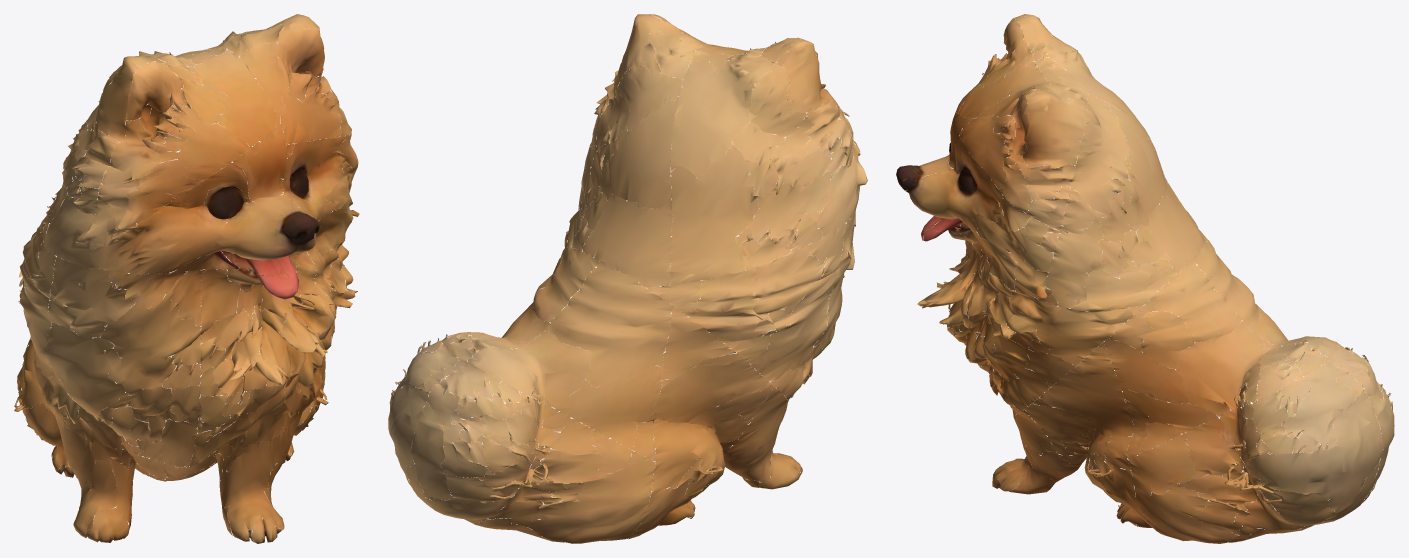
The model's file is dog.glb.
3 views of the same model, side by side, from view 1: azimuth 30°, elevation 25°; view 2: azimuth 150°, elevation 25°; view 3: azimuth 270°, elevation 25° (orthographic). The views are drawn at different scales.
Visible parts, largest first — view 1: new_pom; view 2: new_pom; view 3: new_pom.
Part boxes in pixels (bbox=[...]): new_pom: bbox=[14, 14, 359, 543]; new_pom: bbox=[388, 14, 867, 543]; new_pom: bbox=[896, 14, 1394, 543].
Bounding box in the file's own units: 0.7363 × 0.9165 × 0.98.
1 material, 1 textured.
